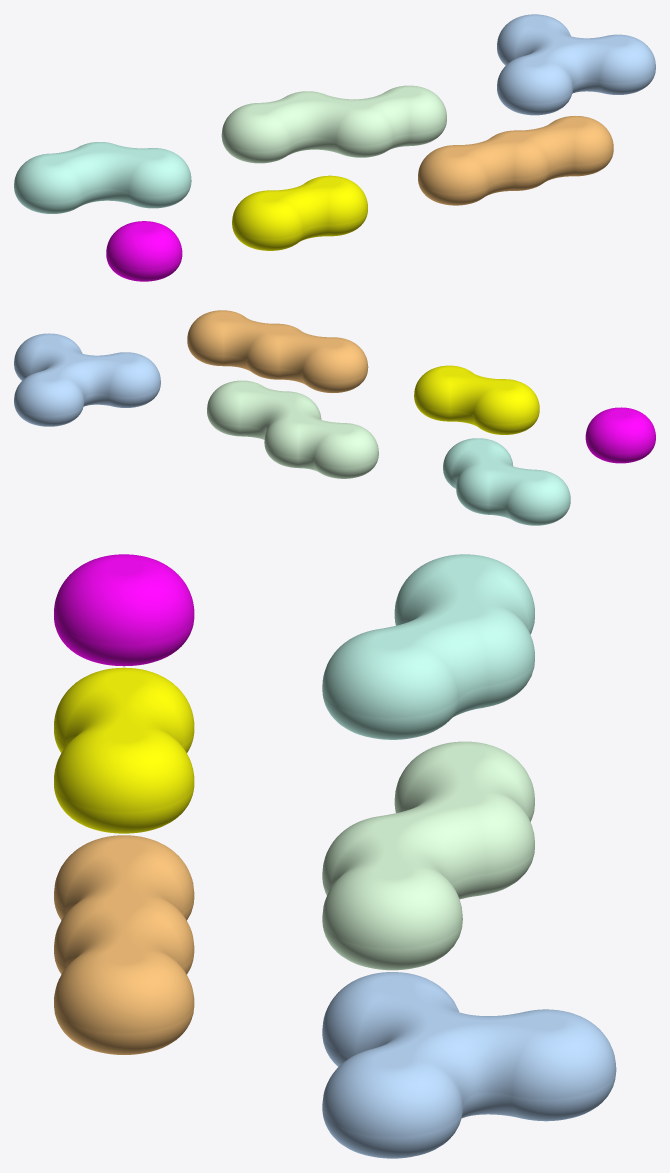
The picture shows the model from 3 angles, top to bottom: view 1: azimuth 30°, elevation 25°; view 2: azimuth 150°, elevation 25°; view 3: azimuth 270°, elevation 25°; orthographic projection. The views are drawn at different scales.
Size of the model in its own units: 0.5108 by 0.036 by 0.22.
